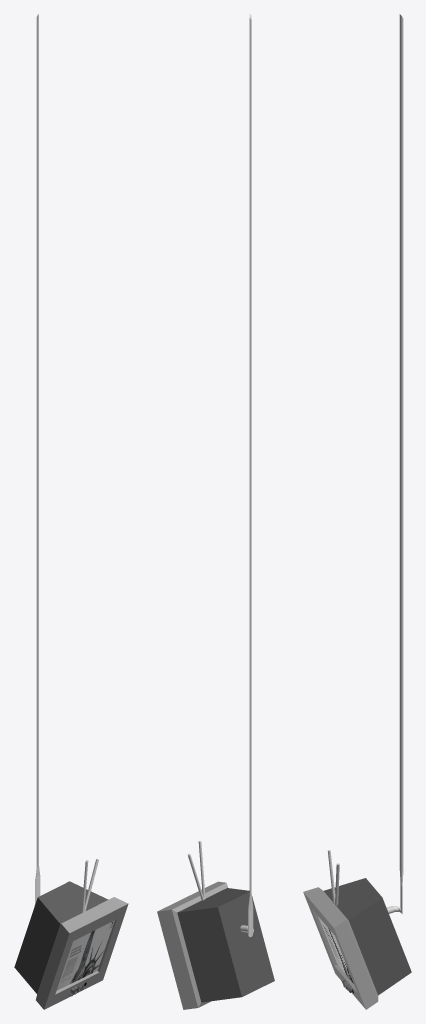
3 renders of one model, left to right at view 1: azimuth 30°, elevation 25°; view 2: azimuth 210°, elevation 25°; view 3: azimuth 270°, elevation 25°, orthographic. The views are drawn at different scales.
Parts seen in each view (by area): view 1: Cube.001, Cube.002, Cylinder.003, website1; view 2: Cube.002, Cylinder.003, Cube.001; view 3: Cube.002, Cylinder.003, Cube.001, website1.
Part boxes in pixels (<box>): Cube.001: <box>36,897,128,1009</box>; Cube.002: <box>14,881,108,993</box>; Cylinder.003: <box>34,14,40,905</box>; website1: <box>56,920,114,990</box>; Cube.002: <box>177,888,274,1002</box>; Cylinder.003: <box>240,14,253,937</box>; Cube.001: <box>157,881,227,1009</box>; Cube.002: <box>324,878,411,995</box>; Cylinder.003: <box>386,14,403,913</box>; Cube.001: <box>303,887,378,1009</box>; website1: <box>318,916,353,983</box>.
Bounding box in the file's own units: 89.92 × 980 × 99.37.
Materials: 7 (1 with a texture image).
